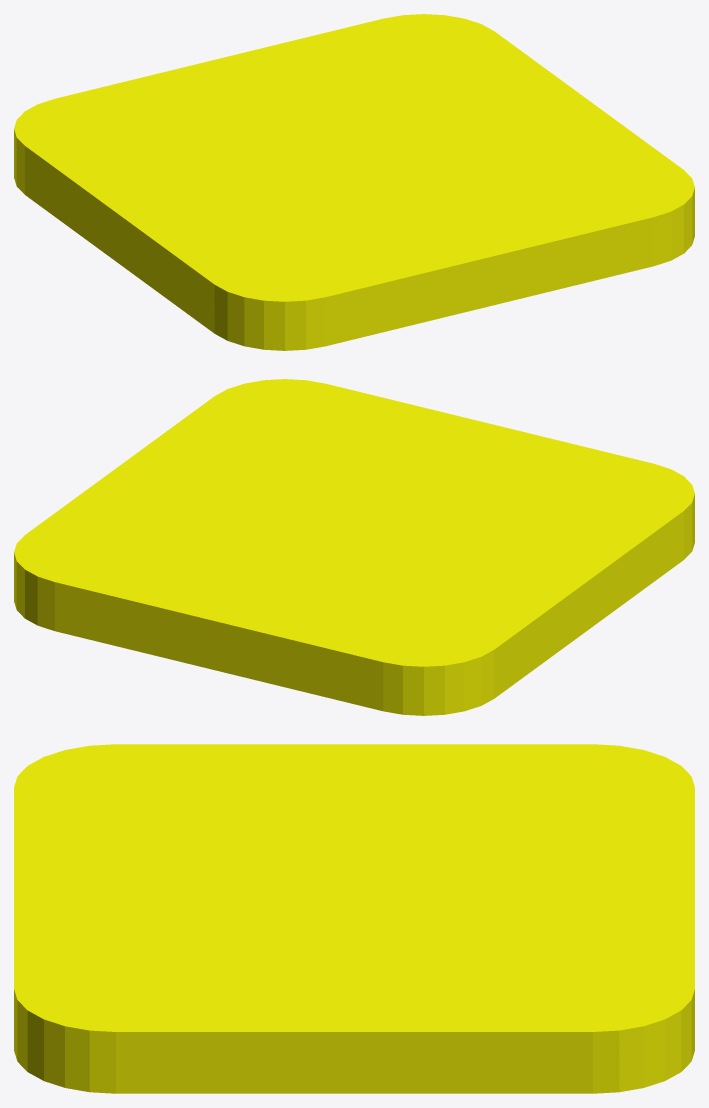
The model's file is wrs_fcsc_music.dae.
The picture shows the model from 3 angles, top to bottom: view 1: azimuth 30°, elevation 25°; view 2: azimuth 150°, elevation 25°; view 3: azimuth 270°, elevation 25°; orthographic projection. The views are drawn at different scales.
Parts seen in each view (by area): view 1: Cube; view 2: Cube; view 3: Cube.
Boxes of the visible parts, <box> form: Cube: <box>14,14,694,350</box>; Cube: <box>14,379,694,715</box>; Cube: <box>14,744,694,1093</box>.
Bounding box in the file's own units: 0.2 × 0.2 × 0.03.
